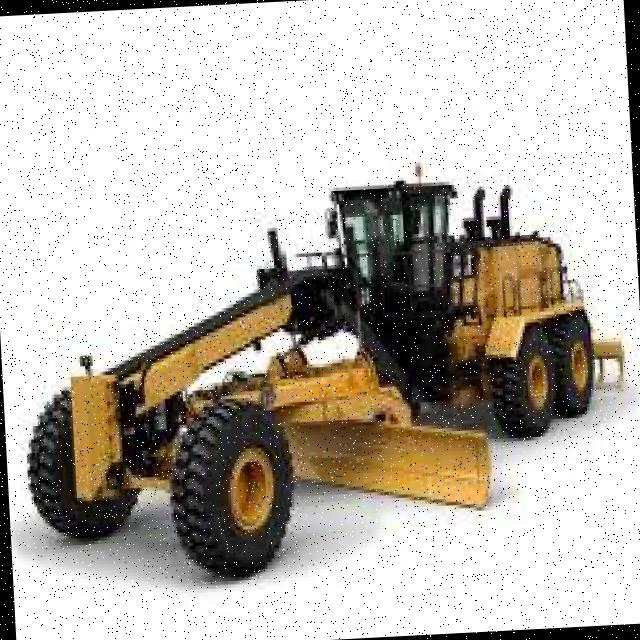Grader: (10, 139, 638, 582)
